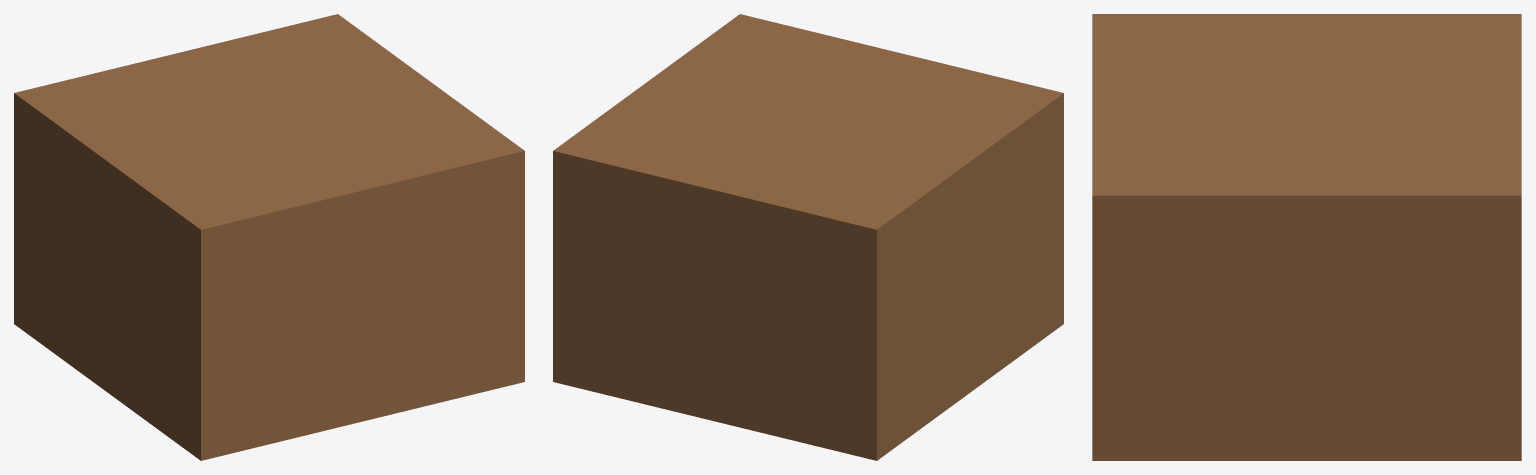
Rendered from stump.glb.
3 renders of one model, left to right at view 1: azimuth 30°, elevation 25°; view 2: azimuth 150°, elevation 25°; view 3: azimuth 270°, elevation 25°, orthographic. The views are drawn at different scales.
Visible parts, largest first — view 1: StumpVariantWide; view 2: StumpVariantWide; view 3: StumpVariantWide.
Part boxes in pixels (x1,y1,x2,y2): StumpVariantWide: (14, 14, 524, 460); StumpVariantWide: (553, 14, 1063, 460); StumpVariantWide: (1092, 14, 1521, 460).
Bounding box in the file's own units: 1.1 × 0.75 × 1.1.
